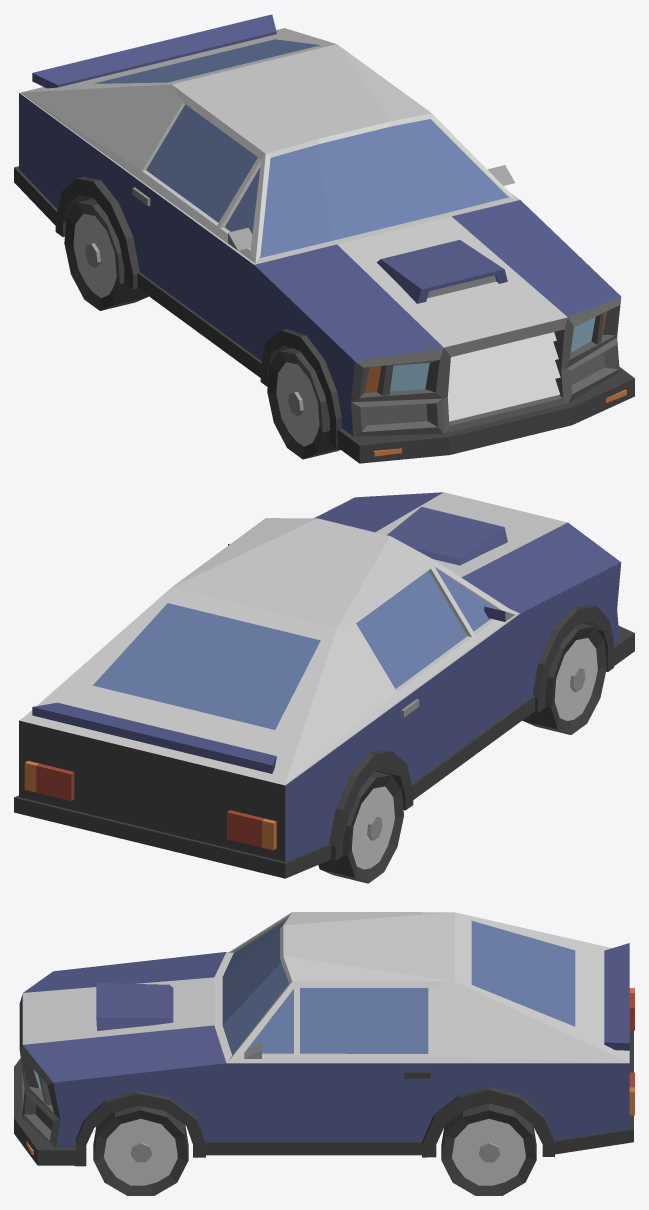
The model's file is transport_jeep_007.fbx.
3 renders of one model, top to bottom at view 1: azimuth 30°, elevation 25°; view 2: azimuth 150°, elevation 25°; view 3: azimuth 270°, elevation 25°, orthographic. The views are drawn at different scales.
Parts seen in each view (by area): view 1: transport_jeep_007; view 2: transport_jeep_007; view 3: transport_jeep_007.
Part boxes in pixels (box(x1,y1,x2,y2)): transport_jeep_007: box(14, 14, 634, 463); transport_jeep_007: box(14, 492, 634, 883); transport_jeep_007: box(14, 912, 634, 1195).
Bounding box in the file's own units: 167 × 128 × 368.
